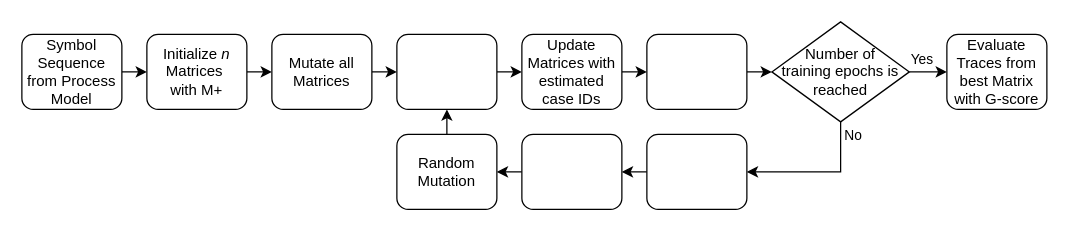
This 1069x231 diagram has some shape labels left out. The centre of each missing label's shape, as x and y in pixels:
"Breed new Matrices from the fittest ones" goes at [696,171].
"Estimate Traces / Case IDs for every Matrix" goes at [446,71].
"Evaluate Matrices and rank them" goes at [696,71].
"Remove weakest Matrices" goes at [571,171].
